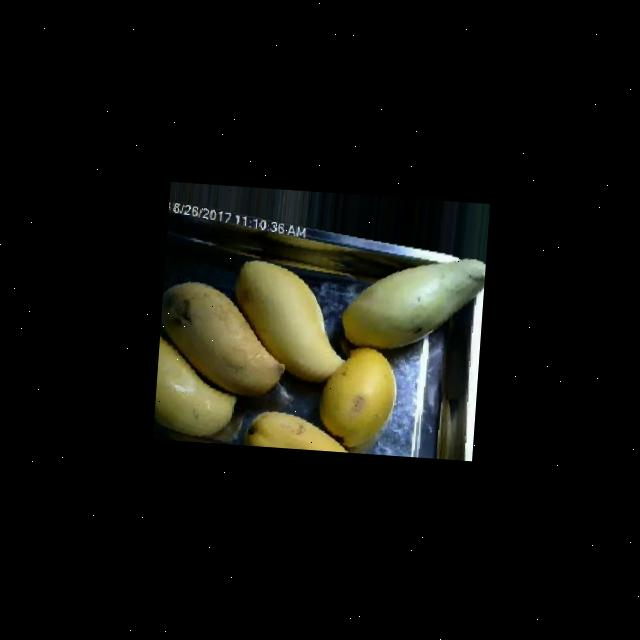Mango: (156, 277, 290, 398), (228, 256, 351, 383), (340, 247, 484, 354), (153, 330, 241, 437), (315, 342, 399, 452), (244, 407, 356, 451)
